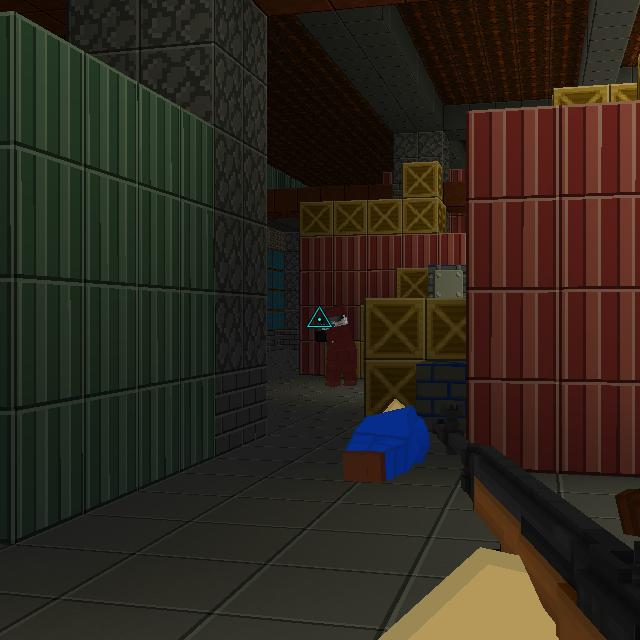enemy: (325, 310, 354, 387)
